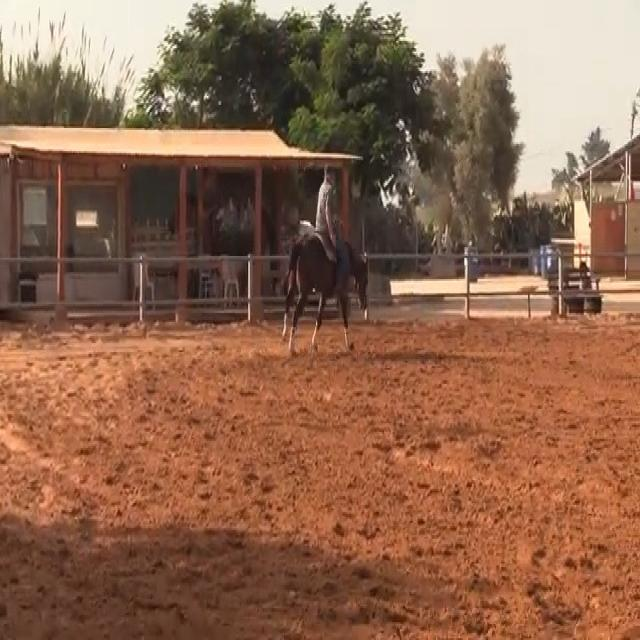horse: (279, 222, 371, 356)
